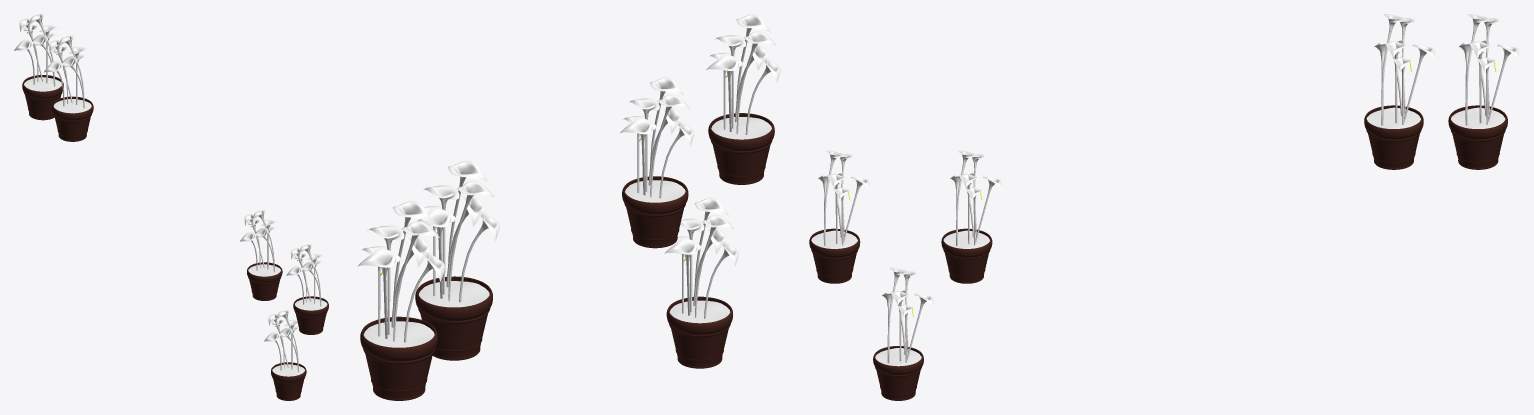
Rendered from Room3-Flower2.glb.
3 views of the same model, side by side, from view 1: azimuth 30°, elevation 25°; view 2: azimuth 150°, elevation 25°; view 3: azimuth 270°, elevation 25° (orthographic). The views are drawn at different scales.
Parts seen in each view (by area): view 1: Plant_Pot_Soil_Plant_Pot_Soil_M_0.043, Plant_Pot_Soil_Plant_Pot_Soil_M_0.054, Plant_Pot_Soil_Plant_Pot_Soil_M_0.044, Plant_Pot_Soil_Plant_Pot_Soil_M_0.048, Plant_Pot_Soil_Plant_Pot_Soil_M_0.049; view 2: Plant_Pot_Soil_Plant_Pot_Soil_M_0.054, Plant_Pot_Soil_Plant_Pot_Soil_M_0.043, Plant_Pot_Soil_Plant_Pot_Soil_M_0.044, Plant_Pot_Soil_Plant_Pot_Soil_M_0.048, Plant_Pot_Soil_Plant_Pot_Soil_M_0.049; view 3: Plant_Pot_Soil_Plant_Pot_Soil_M_0.054, Plant_Pot_Soil_Plant_Pot_Soil_M_0.043, Plant_Pot_Soil_Plant_Pot_Soil_M_0.049, Plant_Pot_Soil_Plant_Pot_Soil_M_0.048, Plant_Pot_Soil_Plant_Pot_Soil_M_0.044.
Part boxes in pixels (<box>): Plant_Pot_Soil_Plant_Pot_Soil_M_0.043: <box>44,35,93,141</box>; Plant_Pot_Soil_Plant_Pot_Soil_M_0.054: <box>14,14,63,120</box>; Plant_Pot_Soil_Plant_Pot_Soil_M_0.044: <box>240,210,282,300</box>; Plant_Pot_Soil_Plant_Pot_Soil_M_0.048: <box>286,244,328,334</box>; Plant_Pot_Soil_Plant_Pot_Soil_M_0.049: <box>264,310,306,400</box>; Plant_Pot_Soil_Plant_Pot_Soil_M_0.054: <box>357,201,444,400</box>; Plant_Pot_Soil_Plant_Pot_Soil_M_0.043: <box>415,160,499,360</box>; Plant_Pot_Soil_Plant_Pot_Soil_M_0.044: <box>619,77,694,248</box>; Plant_Pot_Soil_Plant_Pot_Soil_M_0.048: <box>706,14,780,184</box>; Plant_Pot_Soil_Plant_Pot_Soil_M_0.049: <box>664,197,738,368</box>; Plant_Pot_Soil_Plant_Pot_Soil_M_0.054: <box>1448,14,1519,169</box>; Plant_Pot_Soil_Plant_Pot_Soil_M_0.043: <box>1364,14,1435,169</box>; Plant_Pot_Soil_Plant_Pot_Soil_M_0.049: <box>873,267,933,400</box>; Plant_Pot_Soil_Plant_Pot_Soil_M_0.048: <box>809,150,869,283</box>; Plant_Pot_Soil_Plant_Pot_Soil_M_0.044: <box>941,150,1002,283</box>.
Bounding box in the file's own units: 4.75 × 13.24 × 24.63.
